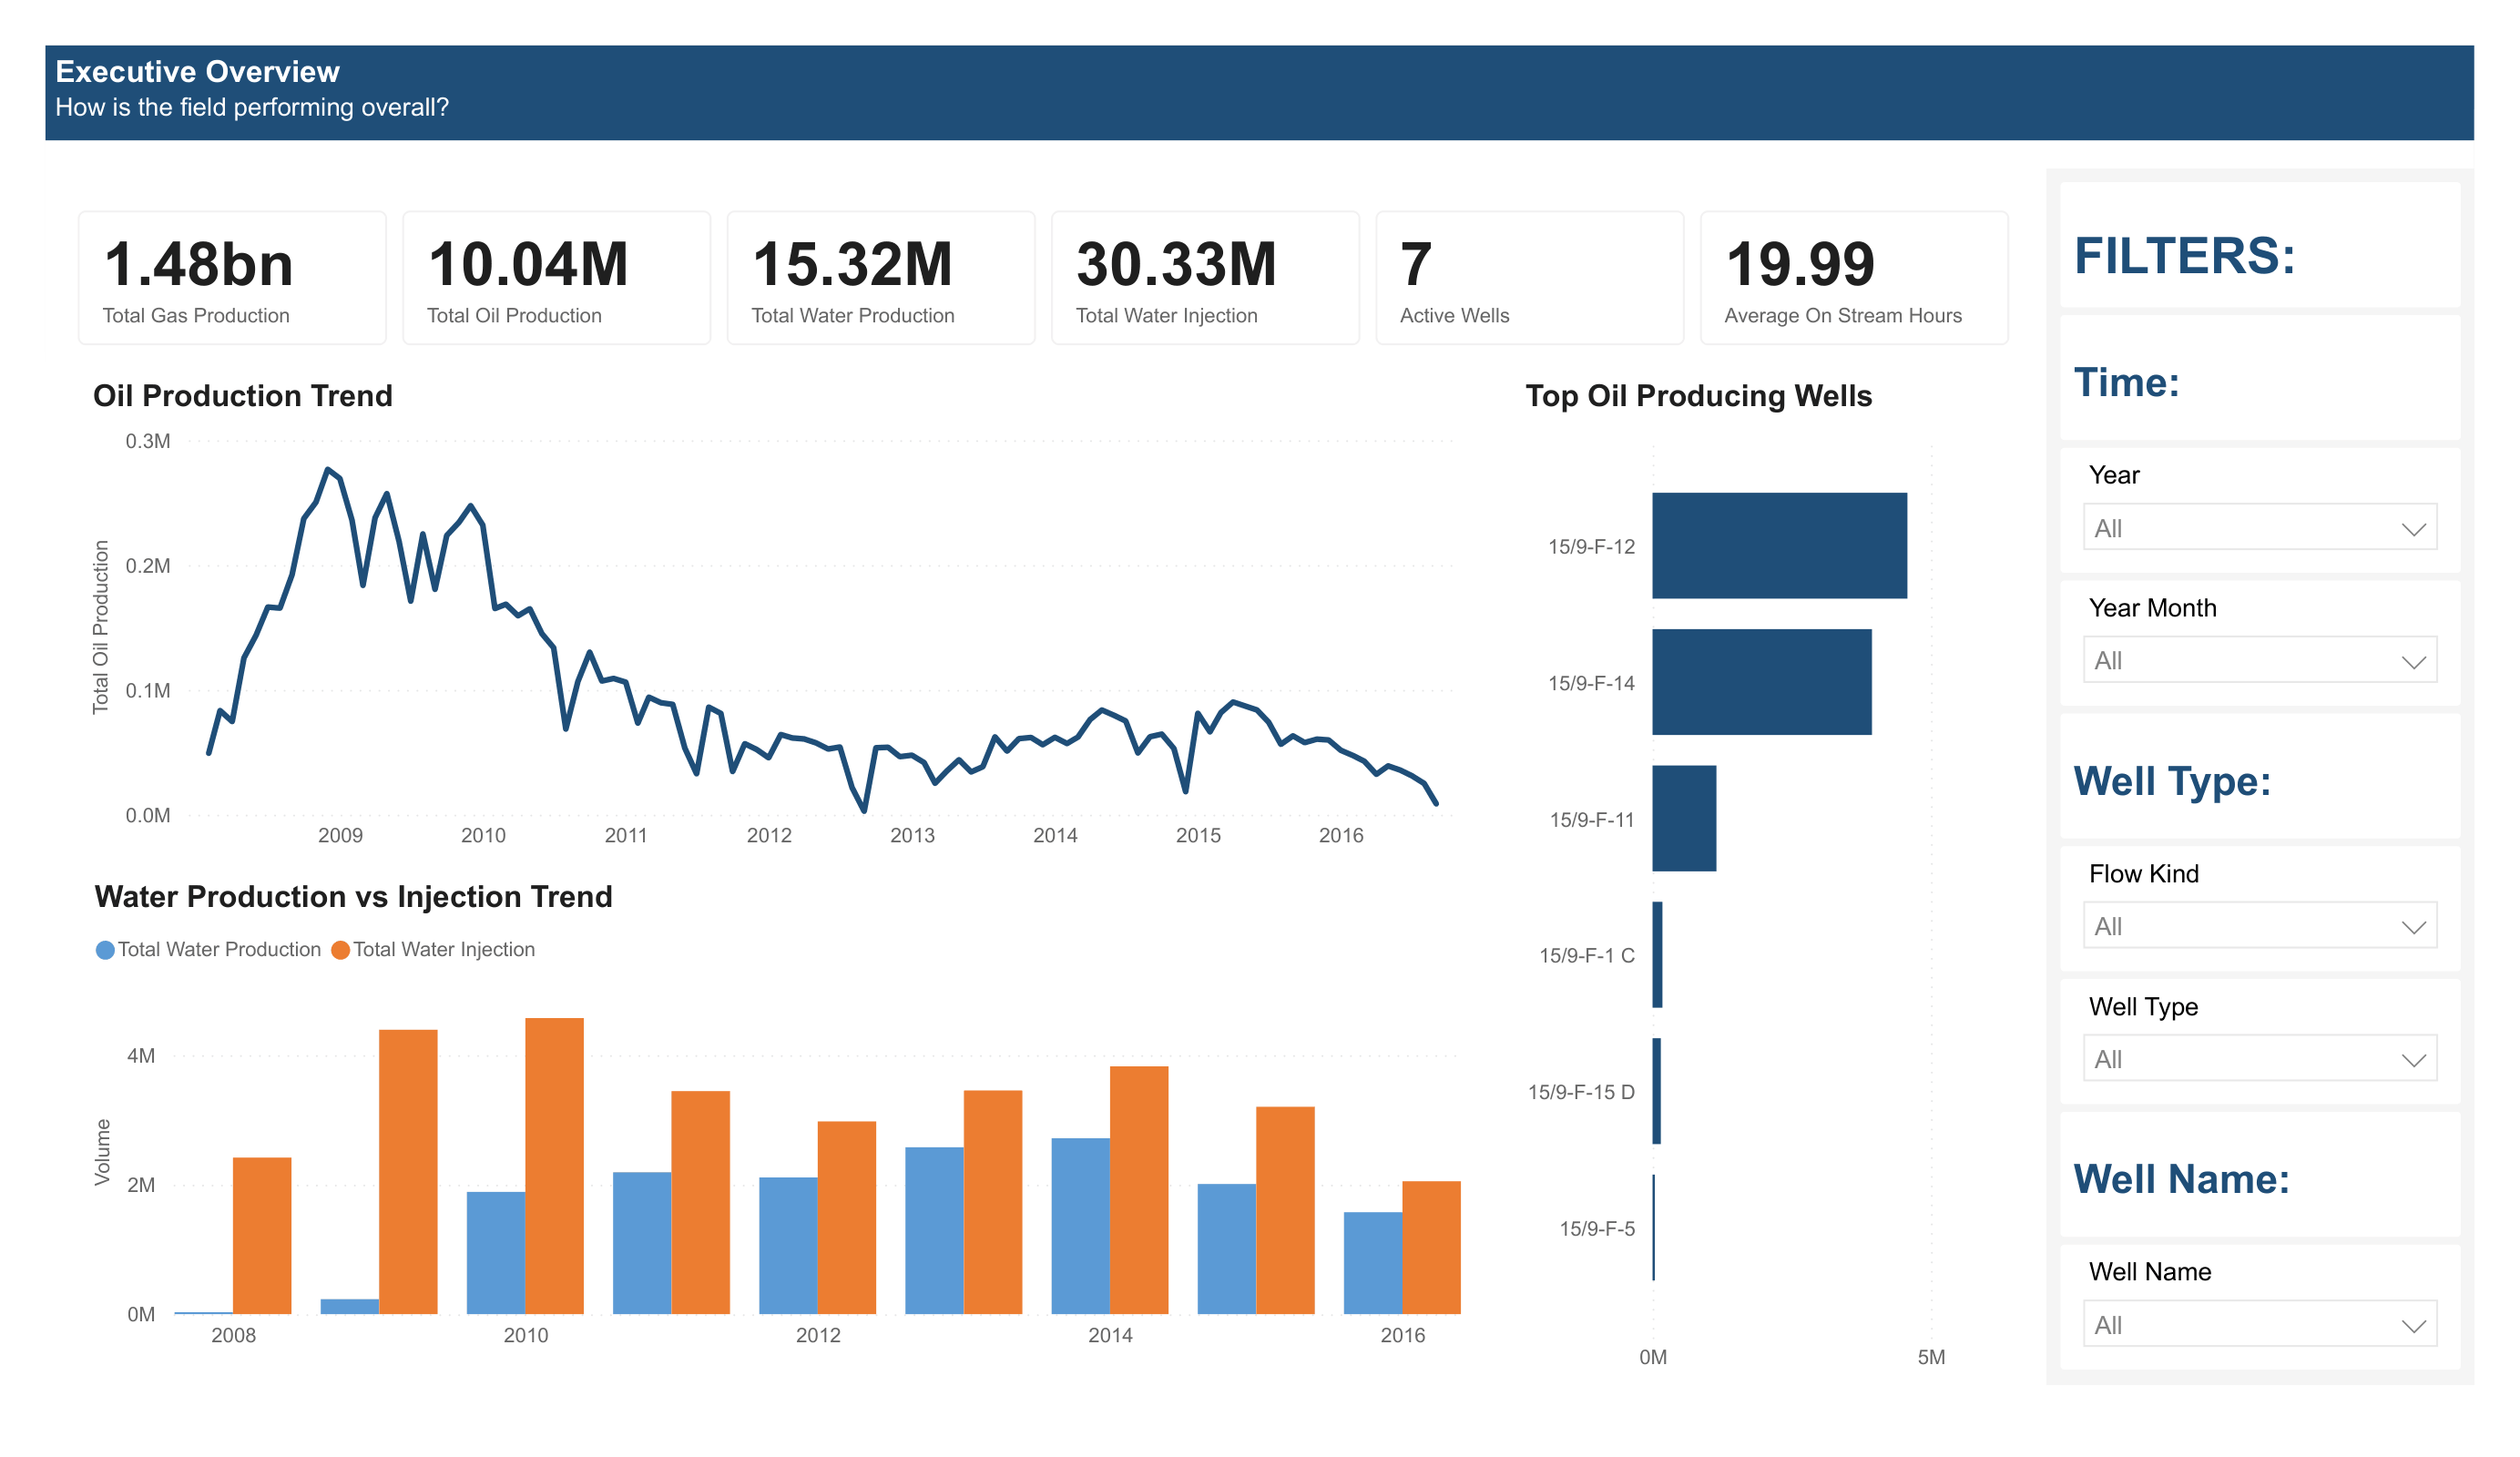

Layout of this report page (visuals, bound fields, positions):
{"tool":"powerbi","page":{"name":"Executive Overview","canvas":[1280,720],"ordinal":0},"visuals":[{"type":"cardVisual","fields":{"Data":["fact_production.Total Gas Production","fact_production.Total Oil Production","fact_production.Total Water Production","fact_production.Total Water Injection","fact_production.Active Wells","fact_production.Average On Stream Hours"]},"box":[0,70,1053.9,105],"z":0},{"type":"lineChart","title":"Oil Production Trend","fields":{"Y":["fact_production.Total Oil Production"],"Category":["dim_date.year_month.Variation.Date Hierarchy.Year","dim_date.year_month.Variation.Date Hierarchy.Quarter","dim_date.year_month.Variation.Date Hierarchy.Month","dim_date.year_month.Variation.Date Hierarchy.Day"]},"box":[20,175.6,730,255],"z":1000},{"type":"clusteredBarChart","title":"Top Oil Producing Wells","fields":{"Category":["dim_well.well_name"],"Y":["fact_production.Total Oil Production"]},"box":[775.3,175.6,260.7,530],"z":2000},{"type":"clusteredColumnChart","title":"Water Production vs Injection Trend","fields":{"Category":["dim_date.year_month.Variation.Date Hierarchy.Year"],"Y":["fact_production.Total Water Production","fact_production.Total Water Injection"]},"box":[20.6,440,730,255],"z":3000},{"type":"textbox","box":[0,0,1280.3,50],"z":4000},{"type":"shape","box":[1055,65,225,640.8],"z":5000},{"type":"slicer","fields":{"Values":["dim_date.year"]},"box":[1060,210,215,70],"z":6000},{"type":"slicer","fields":{"Values":["fact_production.flow_kind"]},"box":[1060,420,215,70],"z":7000},{"type":"slicer","fields":{"Values":["fact_production.well_type"]},"box":[1060,490,215,70],"z":8000},{"type":"slicer","fields":{"Values":["dim_well.well_name"]},"box":[1060,630,215,70],"z":9000},{"type":"textbox","box":[1060,70,215,70],"z":10000},{"type":"textbox","box":[1060,140,215,70],"z":11000},{"type":"slicer","fields":{"Values":["dim_date.Year Month Text"]},"box":[1060,280,215,70],"z":12000},{"type":"textbox","box":[1060,350,215,70],"z":13000},{"type":"textbox","box":[1060,560,215,70],"z":14000}]}

Visuals, with their boxes on the page's 1280x720 design canvas (x1, y1, x2, y2). These are canvas units, not pixel positions in the 2520x1457 screenshot, which may show the page scaled, cropped or inside an application window:
cardVisual - fact_production.Total Gas Production x fact_production.Total Oil Production: 0 70 1054 175
"Oil Production Trend" lineChart: 20 176 750 431
"Top Oil Producing Wells" clusteredBarChart: 775 176 1036 706
"Water Production vs Injection Trend" clusteredColumnChart: 21 440 751 695
textbox: 0 0 1280 50
shape: 1055 65 1280 706
slicer - dim_date.year: 1060 210 1275 280
slicer - fact_production.flow_kind: 1060 420 1275 490
slicer - fact_production.well_type: 1060 490 1275 560
slicer - dim_well.well_name: 1060 630 1275 700
textbox: 1060 70 1275 140
textbox: 1060 140 1275 210
slicer - dim_date.Year Month Text: 1060 280 1275 350
textbox: 1060 350 1275 420
textbox: 1060 560 1275 630
